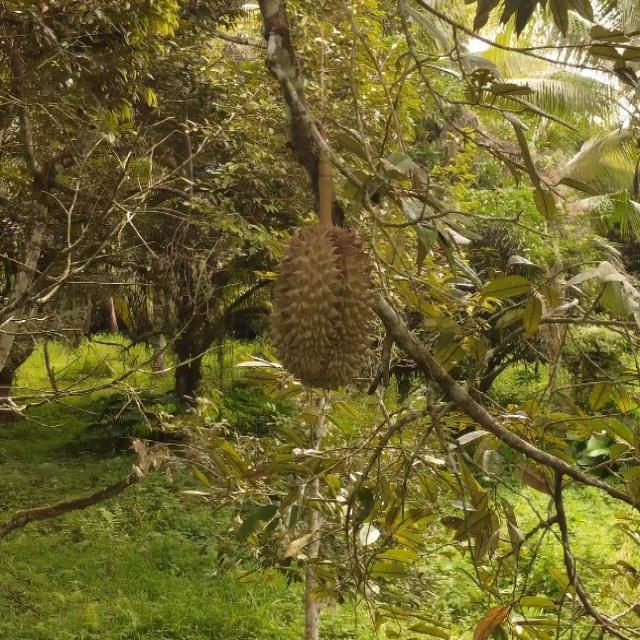mature: (271, 221, 374, 393)
